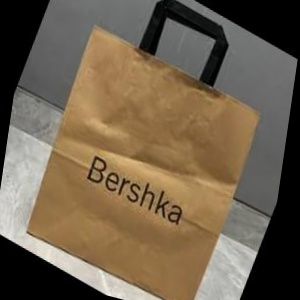bershka: (158, 82, 255, 271)
